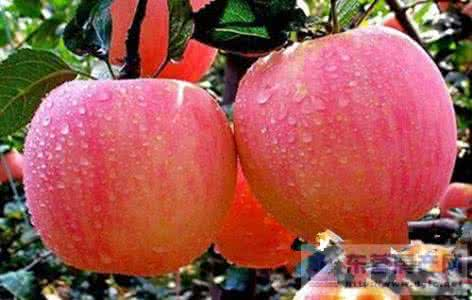apple: (230, 31, 452, 235), (18, 66, 235, 267)
